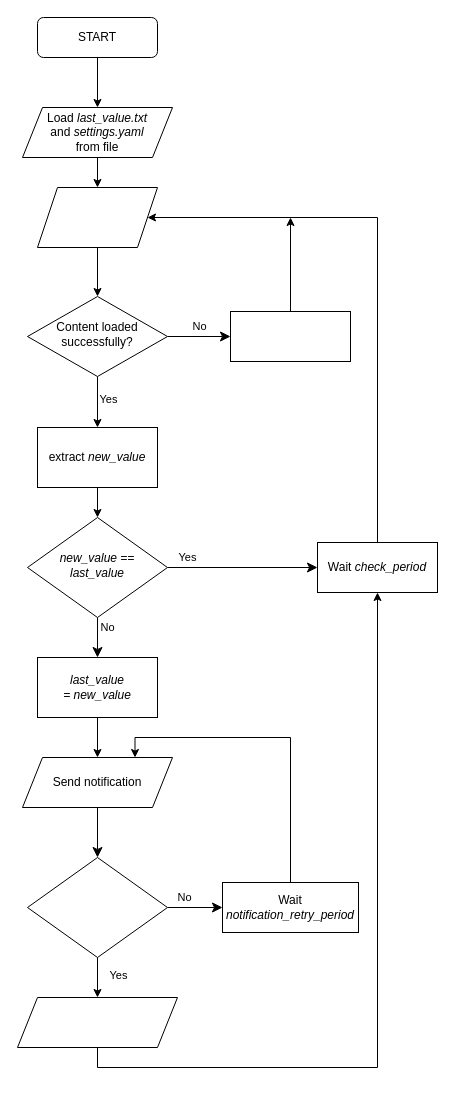
Some shapes in this 455 by 1093 pixel diagram are drawn without their labels. The centre of each missing label's shape, as x and y in pixels:
"get site content" goes at (97,217).
"Notification sending succeeded?" goes at (97,907).
"save last_value to a file last_value.txt" goes at (97,1022).
"Wait access_retry_period" goes at (290,336).
